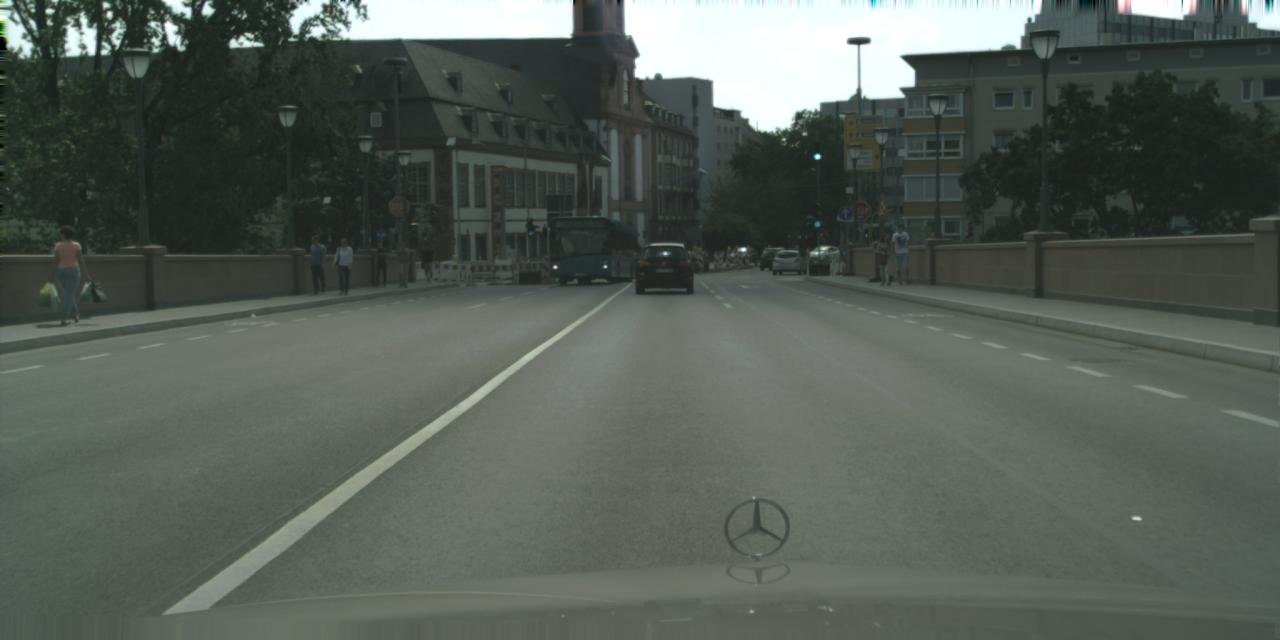ped: (48, 225, 88, 323), (891, 224, 915, 284), (332, 238, 354, 295), (306, 236, 328, 293), (874, 234, 895, 285), (393, 242, 411, 287), (371, 243, 388, 285), (420, 243, 435, 282)
